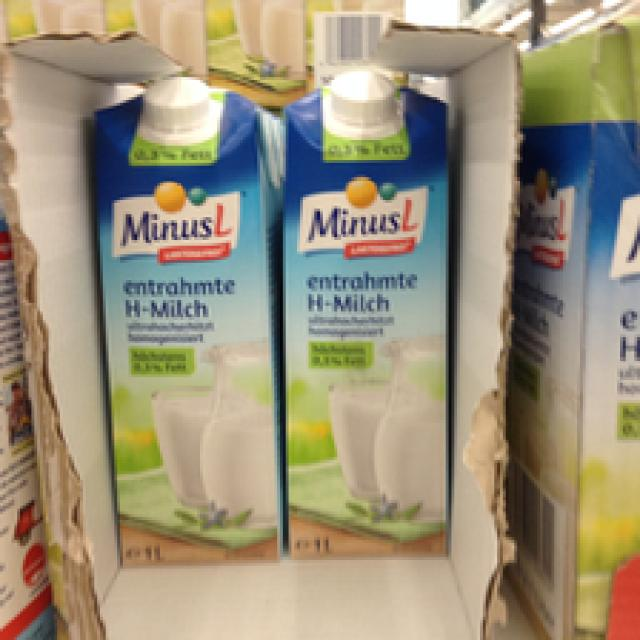groceries: (83, 71, 288, 566), (272, 68, 452, 563)
